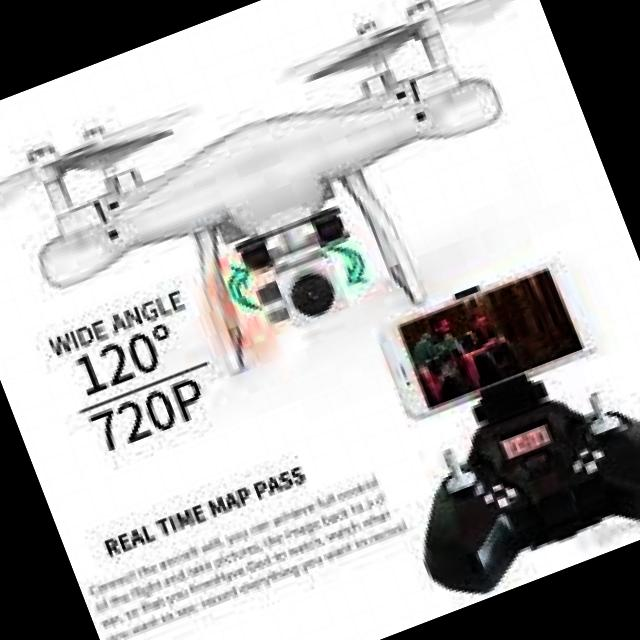drone: (0, 0, 597, 458)
